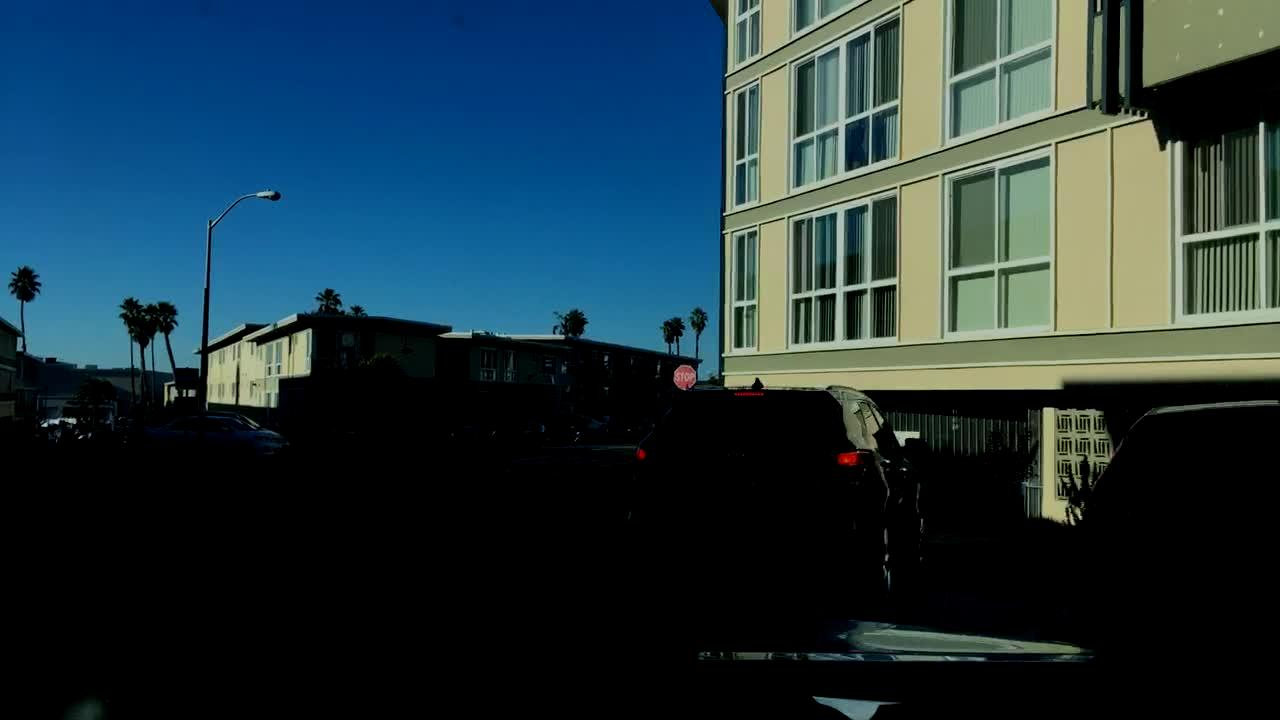Hyundai: (719, 446, 748, 468)
